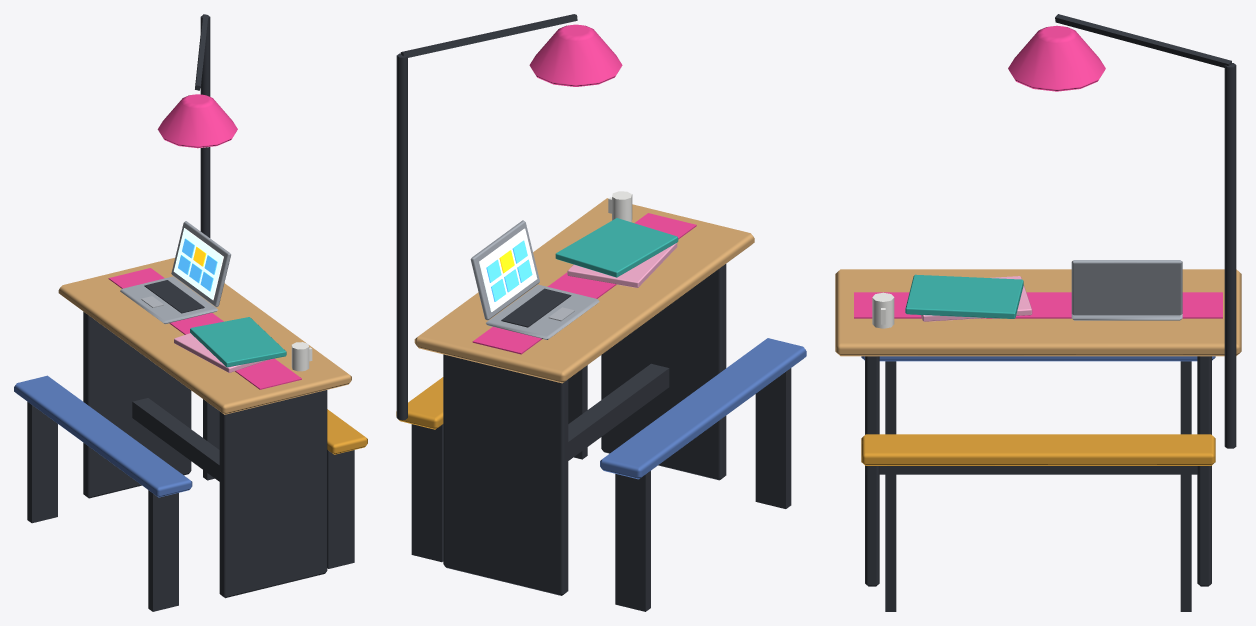
The model's file is station_intake_ausstattung_3_3.glb.
The picture shows the model from 3 angles, left to right: view 1: azimuth 30°, elevation 25°; view 2: azimuth 150°, elevation 25°; view 3: azimuth 270°, elevation 25°; orthographic projection. The views are drawn at different scales.
Visible parts, largest first — view 1: station_intake_ausstattung_3_3; view 2: station_intake_ausstattung_3_3; view 3: station_intake_ausstattung_3_3.
Part boxes in pixels (x1,y1,x2,y2): station_intake_ausstattung_3_3: (14,14,367,611); station_intake_ausstattung_3_3: (396,14,806,611); station_intake_ausstattung_3_3: (835,14,1241,611).
Bounding box in the file's own units: 0.81 × 1.63 × 1.1.
